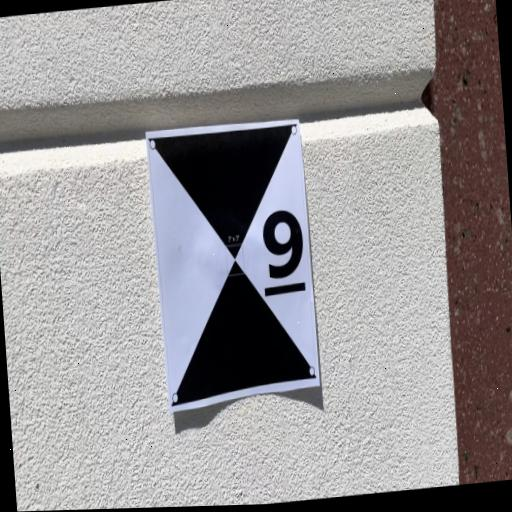target9: (149, 120, 320, 411)
